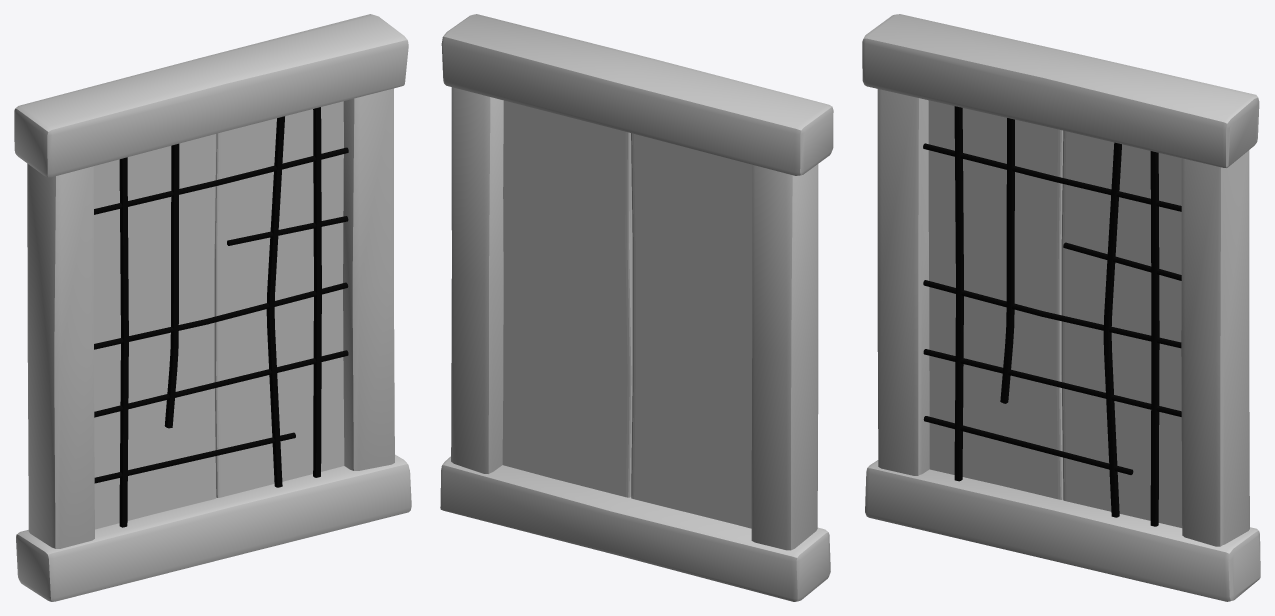
The model's file is SM_Window_04.FBX.
3 renders of one model, left to right at view 1: azimuth 30°, elevation 25°; view 2: azimuth 150°, elevation 25°; view 3: azimuth 330°, elevation 25°, orthographic.
Visible parts, largest first — view 1: SM_Window_04, SM_Window_04_Shutter_Right, SM_Window_04_Shutter_Left; view 2: SM_Window_04, SM_Window_04_Shutter_Right, SM_Window_04_Shutter_Left; view 3: SM_Window_04, SM_Window_04_Shutter_Left, SM_Window_04_Shutter_Right.
Part boxes in pixels (x1,y1,x2,y2): SM_Window_04: (14,14,411,601); SM_Window_04_Shutter_Right: (214,101,344,497); SM_Window_04_Shutter_Left: (94,134,216,529); SM_Window_04: (440,14,833,601); SM_Window_04_Shutter_Right: (502,100,632,497); SM_Window_04_Shutter_Left: (631,133,752,528); SM_Window_04: (862,14,1260,601); SM_Window_04_Shutter_Left: (928,100,1063,499); SM_Window_04_Shutter_Right: (1061,130,1182,527).
Size of the model in its own units: 1.06 by 1.34 by 0.1914.
